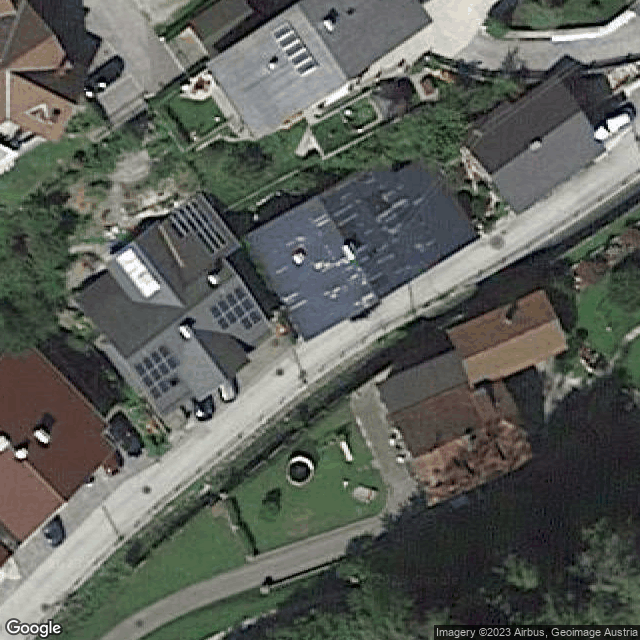dormer: (106, 222, 187, 308), (180, 329, 251, 403)
obstacles: (25, 104, 51, 127), (33, 428, 54, 448), (178, 323, 197, 343), (206, 271, 222, 290), (14, 447, 30, 463), (291, 250, 307, 266), (323, 19, 337, 36), (1, 432, 12, 453), (529, 138, 544, 153), (265, 61, 278, 74), (503, 319, 513, 326)
panels: (170, 200, 230, 256), (270, 22, 320, 78), (208, 285, 264, 334), (134, 345, 182, 402)
ridge: (123, 275, 236, 363), (316, 198, 378, 297), (489, 111, 580, 176), (410, 416, 517, 459), (2, 431, 65, 502), (461, 321, 556, 363), (297, 5, 348, 79), (9, 70, 75, 103), (1, 37, 52, 73)
roof: (239, 135, 479, 341), (207, 1, 433, 141), (1, 331, 117, 544), (457, 76, 606, 214), (391, 379, 537, 506), (447, 289, 568, 392), (1, 1, 89, 141)
valley: (8, 68, 76, 70), (8, 71, 9, 121)
